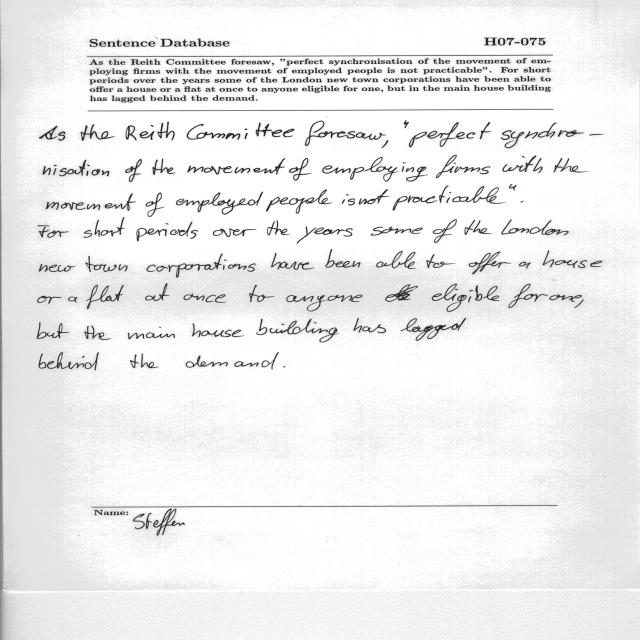word: (393, 184, 517, 211), (501, 123, 604, 149), (322, 157, 428, 182), (147, 254, 256, 278), (409, 122, 491, 147), (305, 121, 386, 146), (176, 192, 263, 215), (256, 319, 339, 342), (432, 284, 499, 312), (187, 123, 294, 140), (188, 158, 286, 175), (266, 189, 332, 214), (47, 193, 136, 211), (186, 353, 279, 370), (401, 318, 466, 341), (286, 295, 363, 312), (436, 155, 490, 178), (137, 222, 198, 242), (543, 250, 603, 268), (39, 352, 99, 370), (502, 219, 569, 235), (47, 160, 109, 176), (469, 252, 511, 275), (508, 284, 548, 308), (297, 227, 353, 244), (126, 122, 175, 141), (86, 285, 124, 309), (84, 217, 125, 238), (271, 253, 314, 270), (192, 324, 244, 338), (503, 156, 543, 174), (376, 251, 416, 269), (86, 256, 128, 272), (326, 249, 361, 268), (385, 284, 418, 302), (81, 124, 115, 141), (433, 219, 457, 243), (554, 158, 589, 173), (289, 158, 312, 180), (353, 318, 386, 333), (359, 189, 389, 205), (371, 227, 423, 236), (249, 285, 275, 302), (146, 193, 164, 217), (145, 283, 169, 301), (465, 220, 493, 235), (184, 293, 226, 303), (427, 254, 456, 268), (130, 354, 159, 368), (125, 159, 142, 182), (213, 228, 256, 237), (85, 326, 112, 340), (153, 158, 175, 175), (267, 220, 289, 236), (47, 323, 69, 338), (146, 327, 175, 338), (47, 126, 65, 141), (549, 294, 582, 302), (47, 226, 68, 238), (47, 264, 75, 272), (342, 194, 355, 206), (47, 297, 62, 304), (128, 333, 144, 339), (574, 300, 584, 309), (519, 262, 530, 269), (68, 297, 78, 303), (382, 140, 388, 148), (404, 121, 409, 128), (521, 201, 524, 202), (284, 367, 286, 368)
